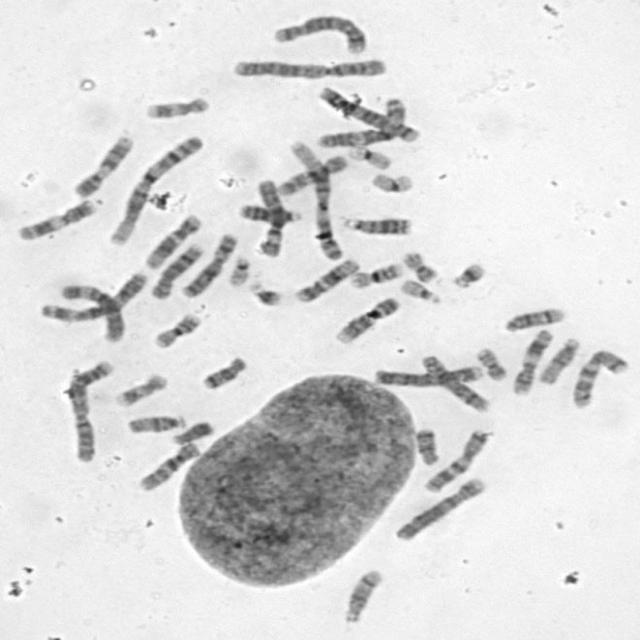A1: (104, 131, 206, 247), (284, 137, 344, 261)
A2: (62, 356, 116, 464), (226, 52, 391, 80)
A3: (35, 267, 151, 323), (314, 93, 411, 148)
B4: (390, 472, 489, 543), (370, 361, 486, 388)
B5: (314, 82, 422, 144), (268, 11, 369, 54)
C10: (134, 438, 203, 493), (272, 151, 351, 197)
C11: (12, 194, 102, 242), (509, 324, 556, 396)
C12: (140, 209, 206, 270), (291, 255, 362, 304)
C6: (55, 279, 126, 344), (252, 174, 288, 258)
C7: (418, 425, 492, 494), (568, 344, 632, 410)
C8: (416, 350, 492, 414), (146, 240, 207, 300)
C9: (68, 131, 136, 199), (332, 293, 403, 345)
D13: (337, 210, 414, 237), (235, 200, 305, 224)
D14: (339, 564, 385, 625), (500, 303, 568, 333)
D15: (534, 334, 582, 386), (123, 410, 189, 434)
E16: (149, 309, 204, 349), (346, 258, 406, 289)
E17: (110, 369, 170, 408), (139, 92, 212, 121)
E18: (197, 352, 250, 390), (412, 424, 444, 466)
F19: (342, 142, 394, 170), (366, 168, 416, 195)
F20: (398, 247, 441, 284), (471, 342, 510, 382)
G21: (447, 258, 489, 289), (245, 278, 286, 308)
G22: (397, 276, 443, 304), (224, 252, 252, 288)
X: (178, 229, 240, 299)
Y: (168, 417, 217, 445)
